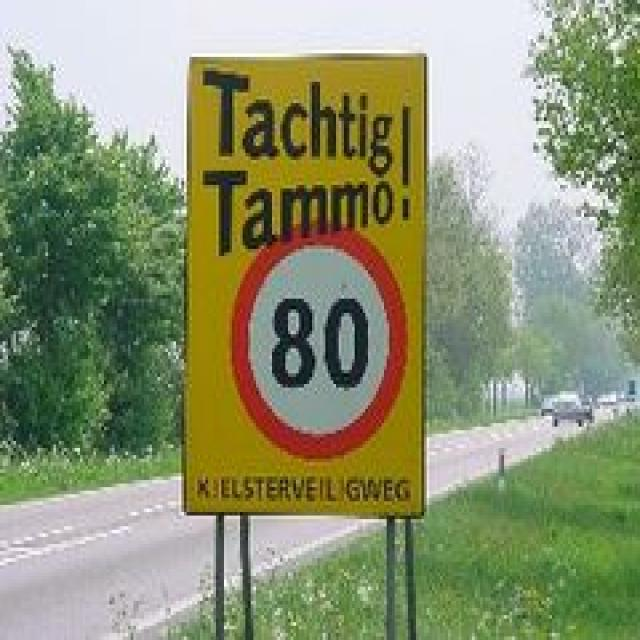Speed Limit -80-: (266, 281, 372, 399)
